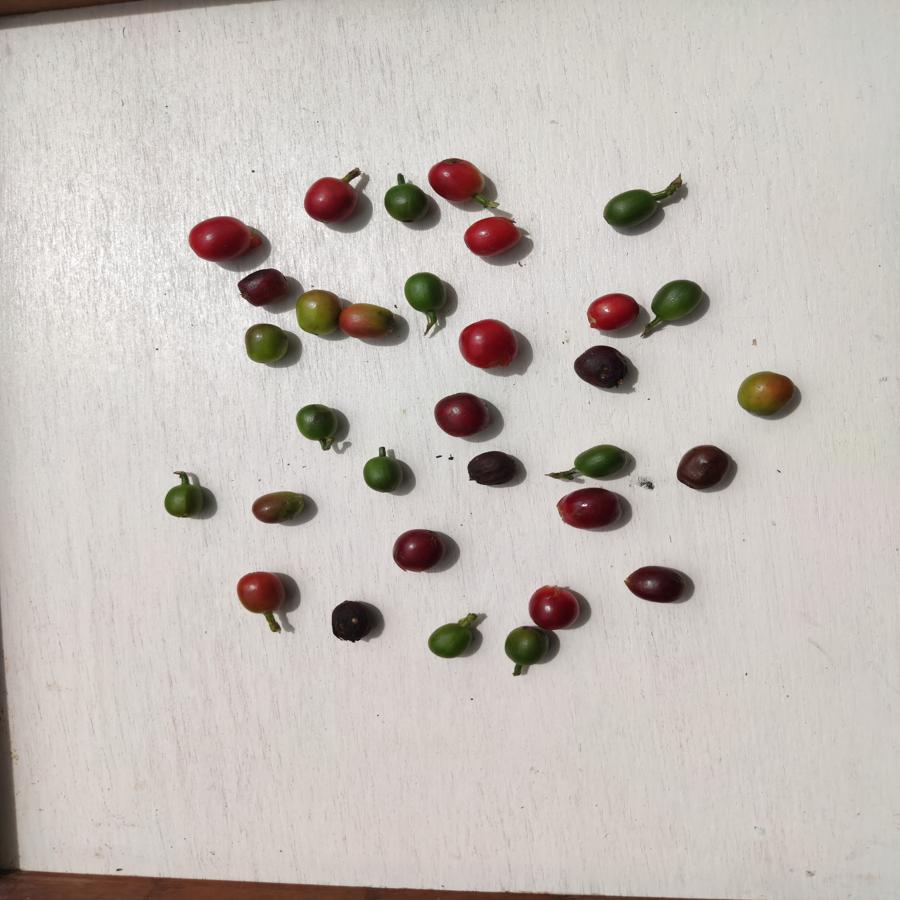Inmaduro: (650, 273, 710, 331), (600, 188, 664, 236), (501, 623, 554, 673), (292, 400, 342, 450), (427, 620, 479, 665), (572, 442, 630, 482), (404, 267, 450, 317), (383, 182, 433, 227), (361, 456, 412, 499), (161, 481, 211, 521)
Maduro: (456, 317, 520, 374), (426, 156, 491, 208), (186, 217, 253, 264), (301, 176, 363, 226), (464, 217, 522, 262), (237, 570, 288, 615), (588, 293, 641, 336)
Pinton: (737, 367, 797, 423), (291, 288, 343, 338), (336, 304, 397, 341), (250, 489, 310, 525), (241, 323, 292, 365)
Sobremaduro: (554, 485, 626, 533), (619, 563, 687, 607), (433, 393, 492, 442), (386, 529, 451, 573), (573, 342, 632, 390), (673, 445, 728, 492), (528, 586, 584, 632), (327, 600, 380, 643), (465, 450, 519, 492), (237, 268, 290, 307)
